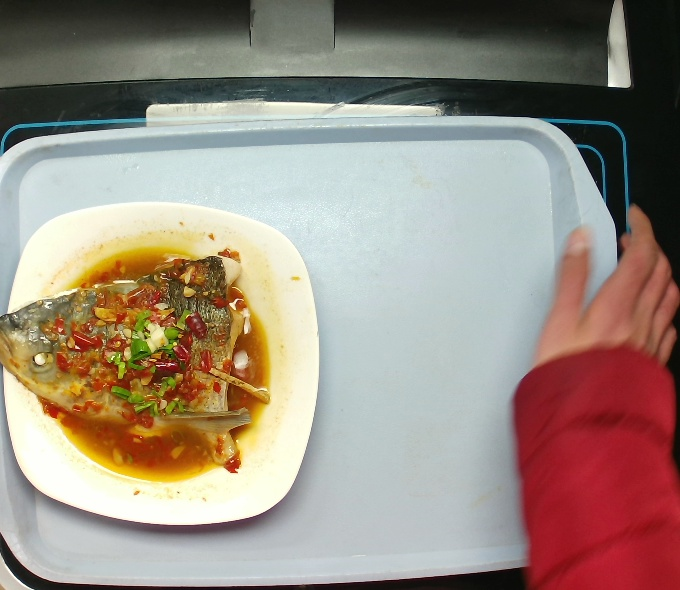wcq-DuoJiaoYuTou: (3, 248, 274, 476)
